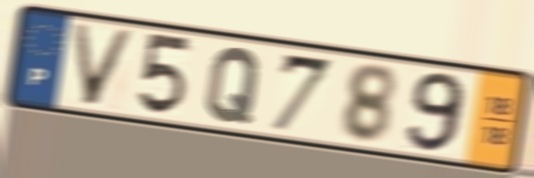5: (134, 30, 198, 118)
7: (269, 50, 336, 134)
8: (338, 60, 400, 147)
9: (403, 69, 470, 156)
Q: (202, 44, 265, 127)
V: (68, 20, 140, 110)
